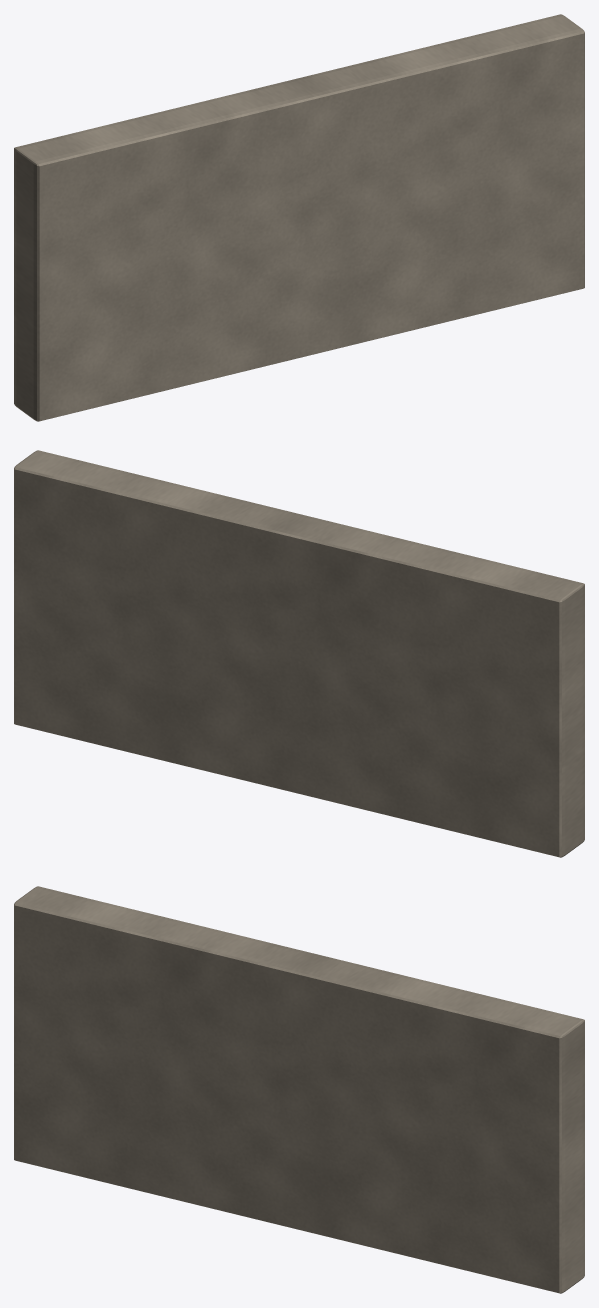
The model's file is railing.glb.
The picture shows the model from 3 angles, top to bottom: view 1: azimuth 30°, elevation 25°; view 2: azimuth 150°, elevation 25°; view 3: azimuth 330°, elevation 25°; orthographic projection.
Visible parts, largest first — view 1: railing | Construction source | Interior | rear wall; view 2: railing | Construction source | Interior | rear wall; view 3: railing | Construction source | Interior | rear wall.
Boxes of the visible parts, x1=… form: railing | Construction source | Interior | rear wall: x1=14, y1=14, x2=584, y2=421; railing | Construction source | Interior | rear wall: x1=14, y1=450, x2=584, y2=857; railing | Construction source | Interior | rear wall: x1=14, y1=886, x2=584, y2=1293.
Size of the model in its own units: 2 by 0.9 by 0.16.
1 material, 1 textured.
